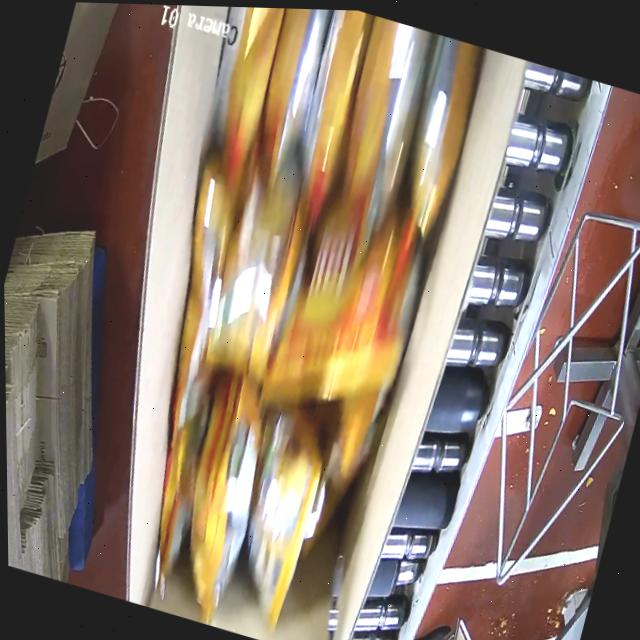FRENCH_CHEESE: (111, 3, 485, 617)
